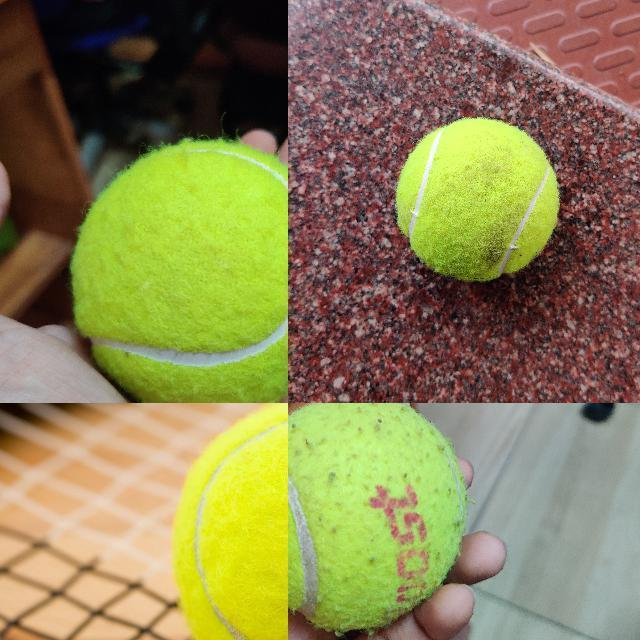tennis-ball: (71, 141, 287, 402), (288, 403, 470, 633), (169, 403, 287, 639), (396, 118, 558, 281)
